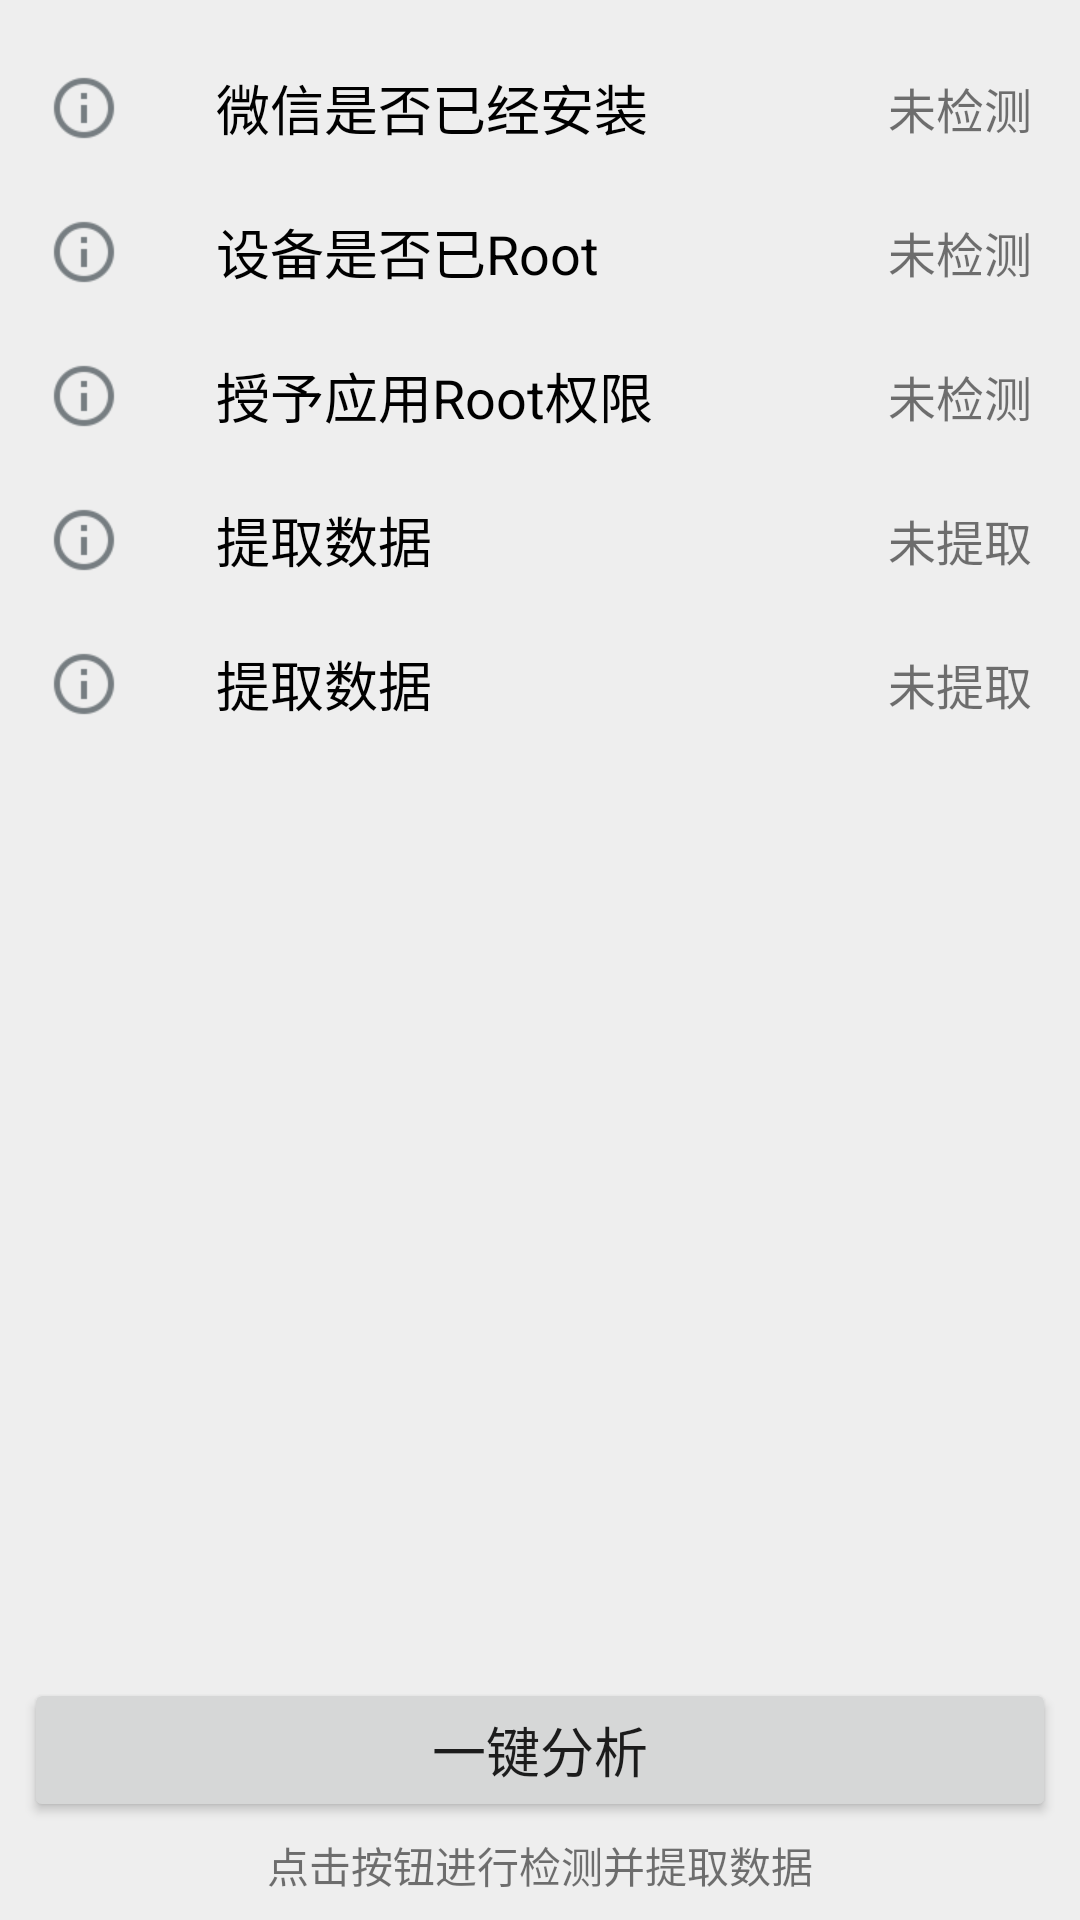

Named icons in this screenshot (1080x1920) and their centers, point (x, y):
info: point (84, 108), point (84, 252), point (84, 396), point (84, 540), point (84, 684)
